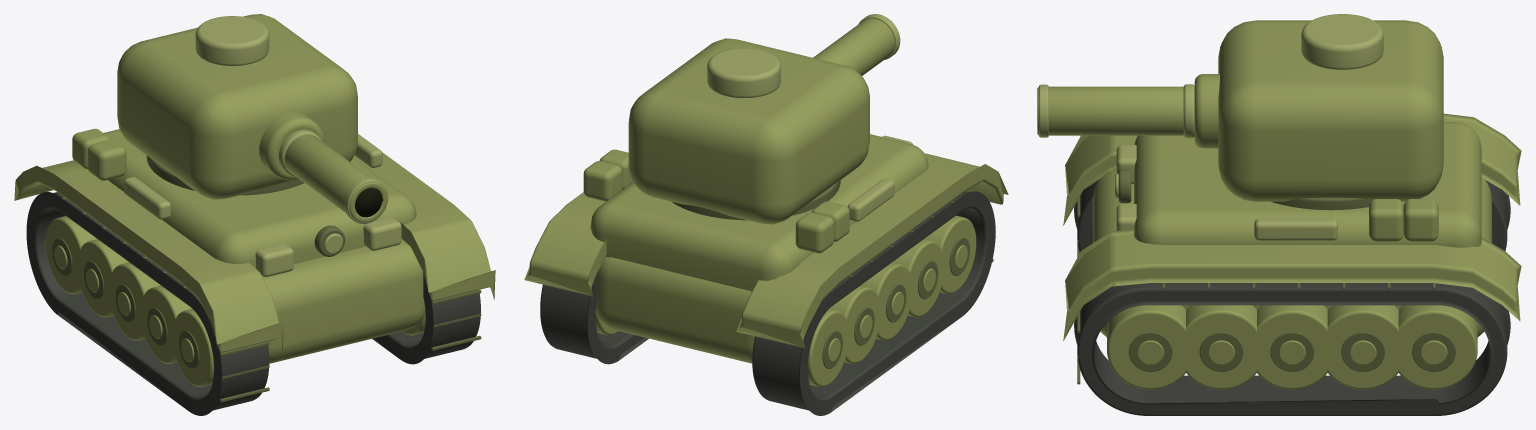
The model's file is smalltank.fbx.
The picture shows the model from 3 angles, left to right: view 1: azimuth 30°, elevation 25°; view 2: azimuth 150°, elevation 25°; view 3: azimuth 270°, elevation 25°; orthographic projection. The views are drawn at different scales.
Visible parts, largest first — view 1: Rounded compact turret, Left curved armored fender, Rounded lower hull, Left continuous rubber track, Upper armored deck, Right curved armored fender, Short hollow cannon, Right continuous rubber track, Top commander hatch, Left road wheel 4, Left road wheel 2, Cannon mantlet (+14 smaller); view 2: Rounded compact turret, Upper armored deck, Left continuous rubber track, Left curved armored fender, Rounded lower hull, Right curved armored fender, Right continuous rubber track, Top commander hatch, Short hollow cannon, Left road wheel 0, Left road wheel 1, Left road wheel 2 (+8 smaller); view 3: Rounded compact turret, Right continuous rubber track, Right curved armored fender, Upper armored deck, Short hollow cannon, Left curved armored fender, Right road wheel 4, Right road wheel 0, Right road wheel 3, Right road wheel 2, Right road wheel 1, Top commander hatch (+22 smaller).
Part boxes in pixels (x1,y1,x2,y2): Rounded compact turret: (117, 14, 357, 199); Left curved armored fender: (14, 160, 283, 352); Rounded lower hull: (262, 239, 425, 363); Left continuous rubber track: (26, 192, 269, 415); Upper armored deck: (103, 129, 416, 268); Right curved armored fender: (353, 152, 495, 300); Short hollow cannon: (284, 134, 387, 222); Right continuous rubber track: (372, 273, 480, 364); Top commander hatch: (195, 16, 269, 65); Left road wheel 4: (45, 216, 97, 294); Left road wheel 2: (109, 262, 160, 340); Cannon mantlet: (259, 112, 324, 180); Rounded compact turret: (628, 38, 869, 224); Upper armored deck: (590, 134, 928, 291); Left continuous rubber track: (752, 191, 995, 415); Left curved armored fender: (736, 153, 1008, 348); Rounded lower hull: (595, 257, 754, 363); Right curved armored fender: (524, 192, 606, 296); Right continuous rubber track: (540, 272, 648, 364); Top commander hatch: (707, 48, 780, 97); Short hollow cannon: (813, 18, 894, 75); Left road wheel 0: (924, 215, 976, 293); Left road wheel 1: (893, 238, 944, 317); Left road wheel 2: (861, 262, 912, 340); Rounded compact turret: (1218, 20, 1443, 201); Right continuous rubber track: (1074, 283, 1510, 415); Right curved armored fender: (1063, 229, 1521, 340); Upper armored deck: (1134, 122, 1481, 247); Short hollow cannon: (1037, 86, 1183, 135); Left curved armored fender: (1063, 113, 1521, 225); Right road wheel 4: (1393, 305, 1477, 389); Right road wheel 0: (1107, 305, 1190, 389); Right road wheel 3: (1322, 305, 1403, 389); Right road wheel 2: (1252, 305, 1332, 389); Right road wheel 1: (1181, 305, 1261, 389); Top commander hatch: (1301, 14, 1383, 69).
Size of the model in its own units: 280 by 274 by 376.
